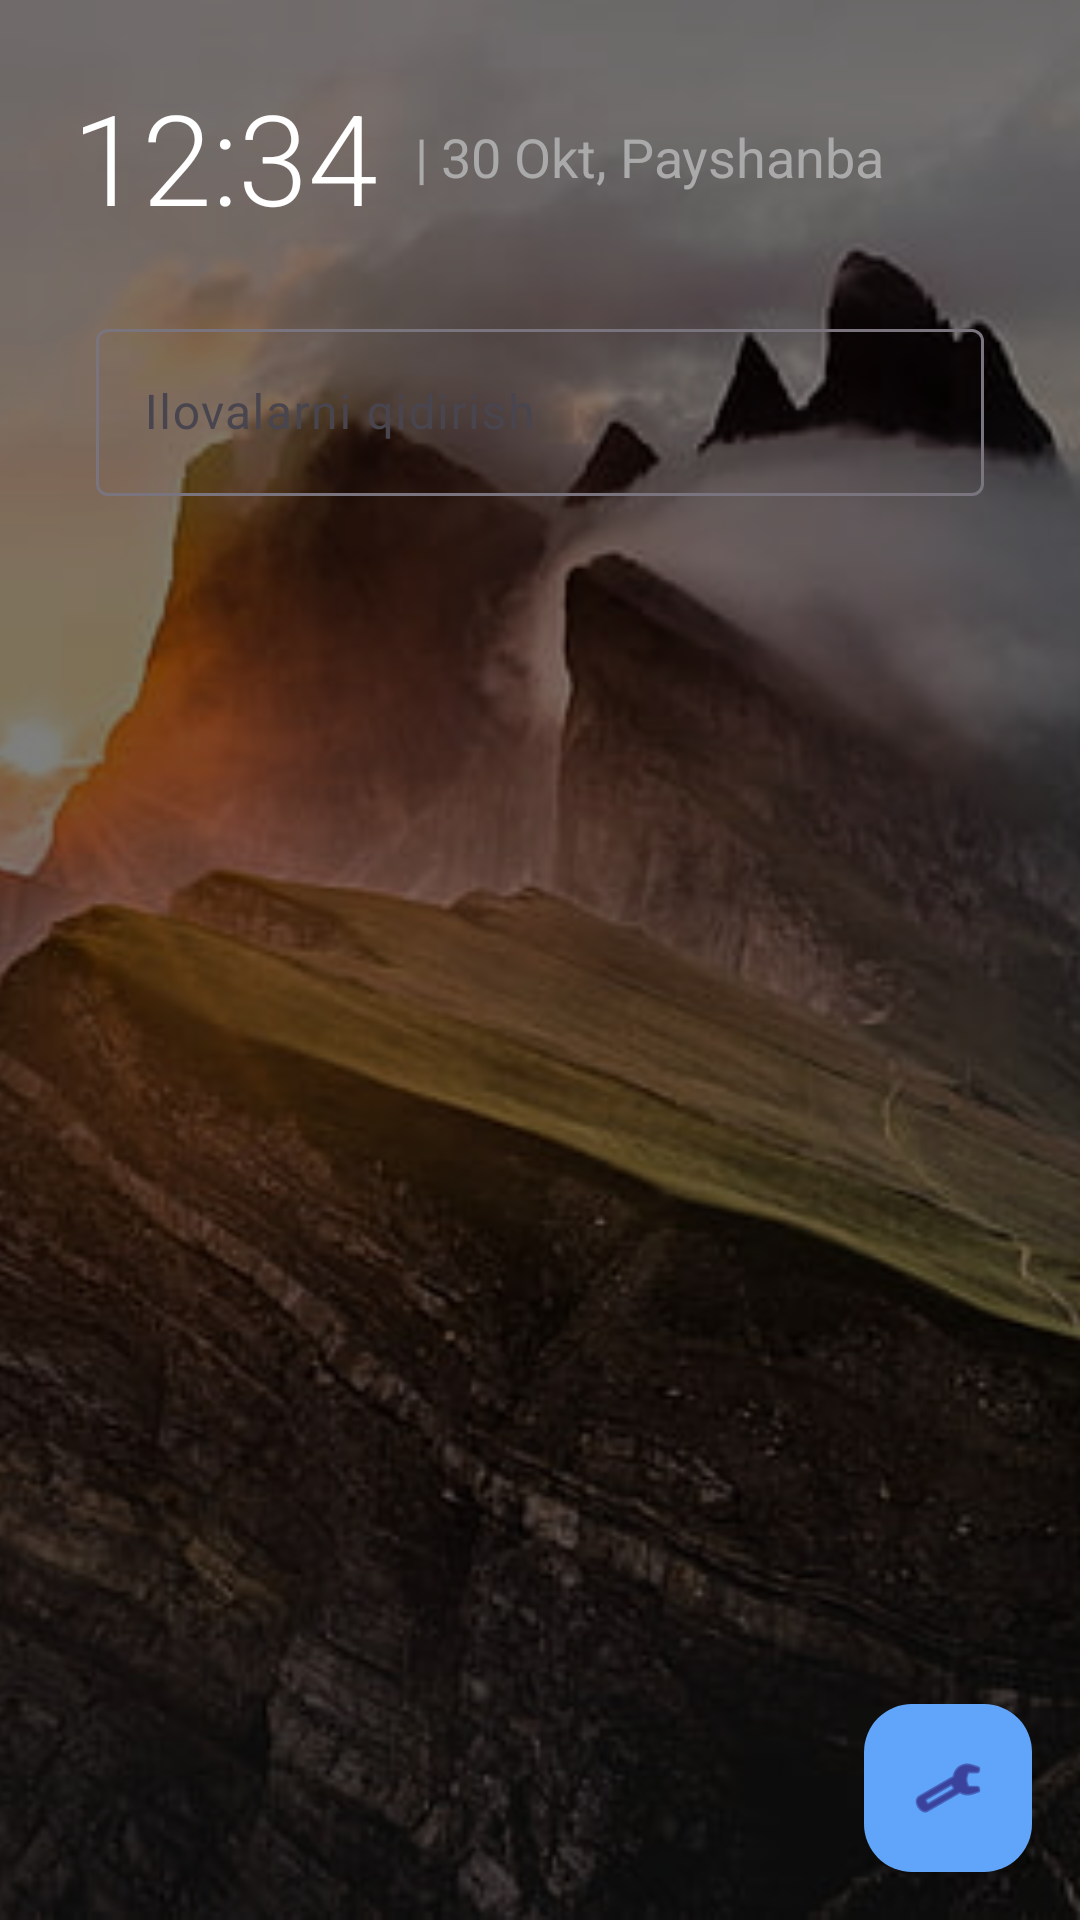

Screen size 1080 × 1920. Icon name, then its box in pixels as (x1, y1, x2, y2):
manage: (864, 1704, 1032, 1872)
